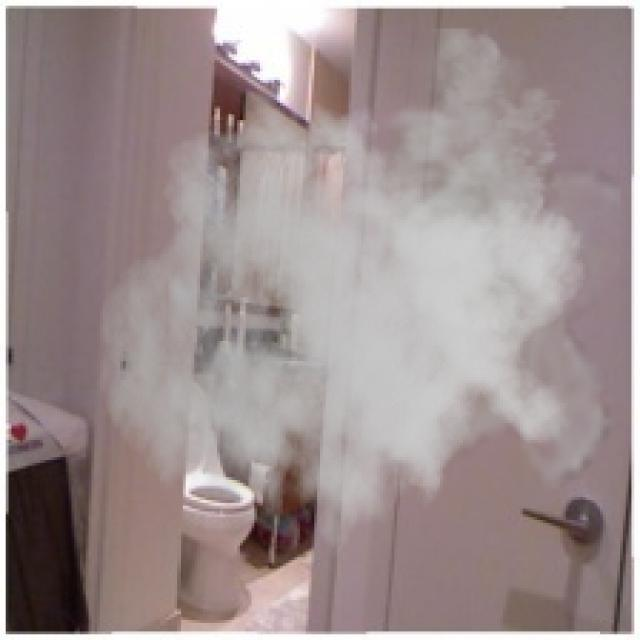Smoke: (97, 28, 620, 580)
